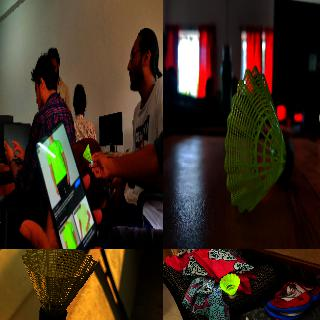shuttlecock: (224, 65, 294, 211), (22, 249, 97, 319), (219, 274, 239, 298), (82, 143, 93, 166)
